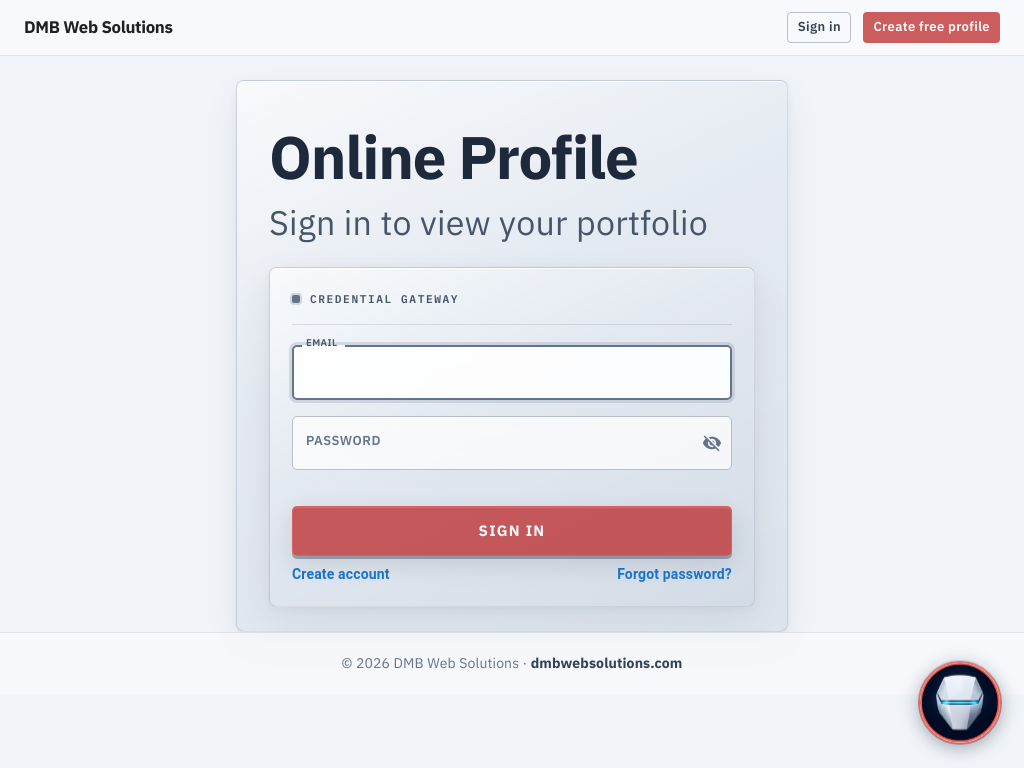
Auth routes › shows API offline message on login request failure
The image size is (1024, 768).
Type "demo@demo.com" into the field with id "login-username" at (512, 373), box [292,345,732,400]
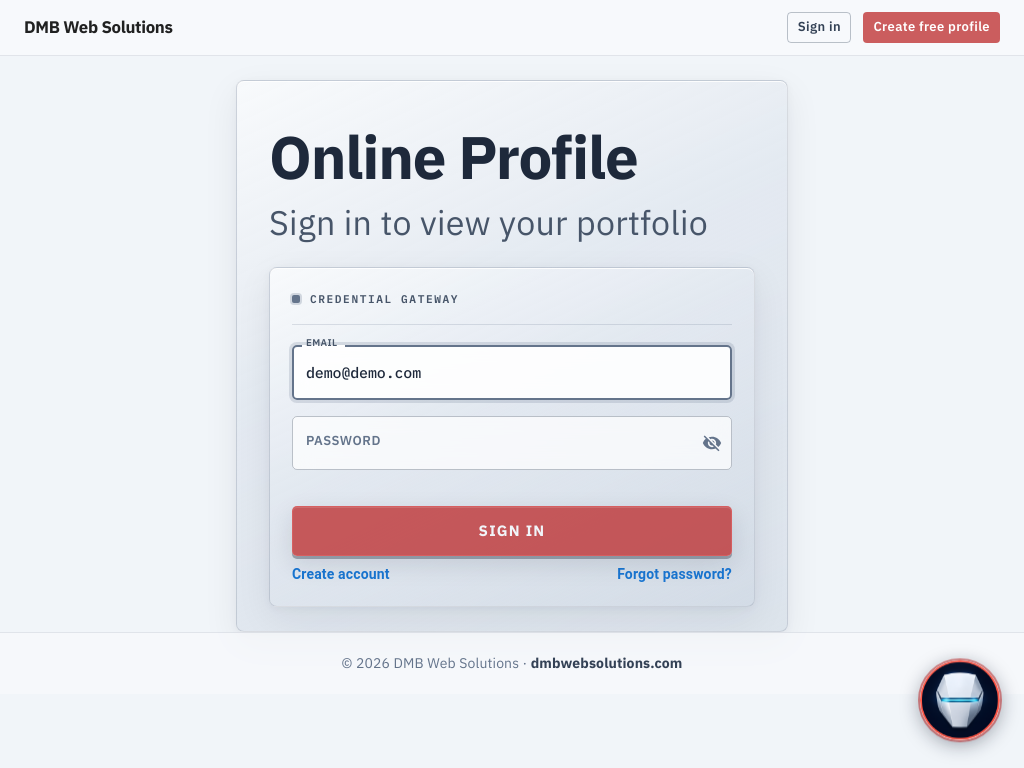
Type "password79" into the password field with id "login-password" at (489, 444), box [292,416,686,471]
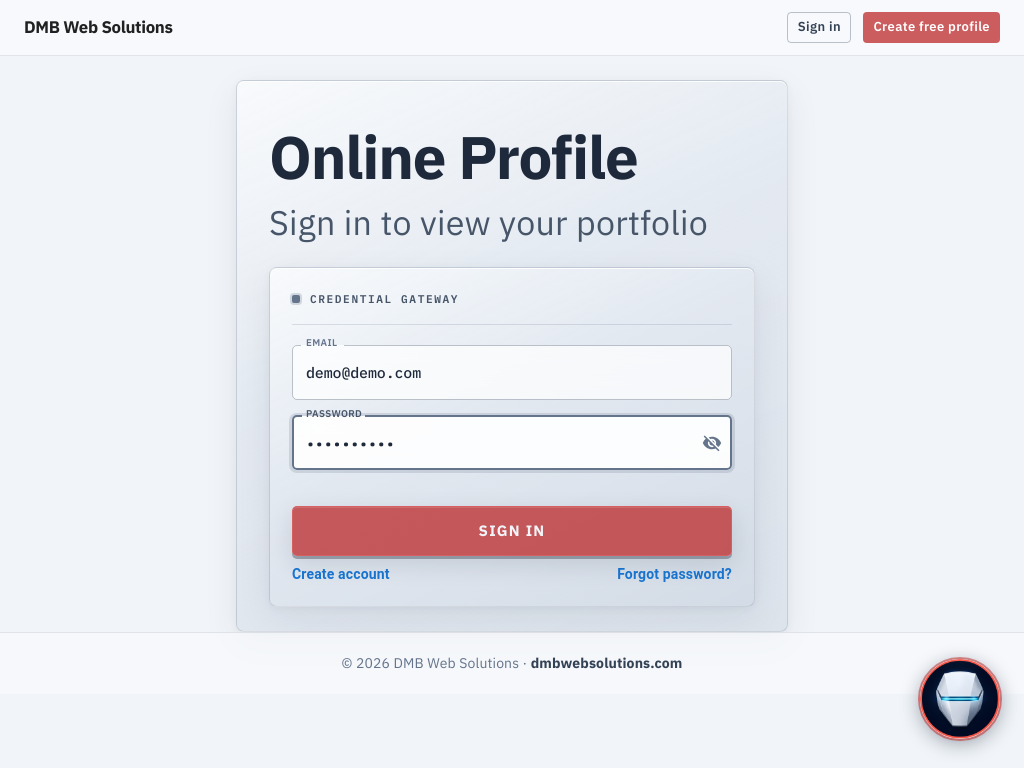
Click the button "Sign in" at (512, 532), box [292,507,732,557]
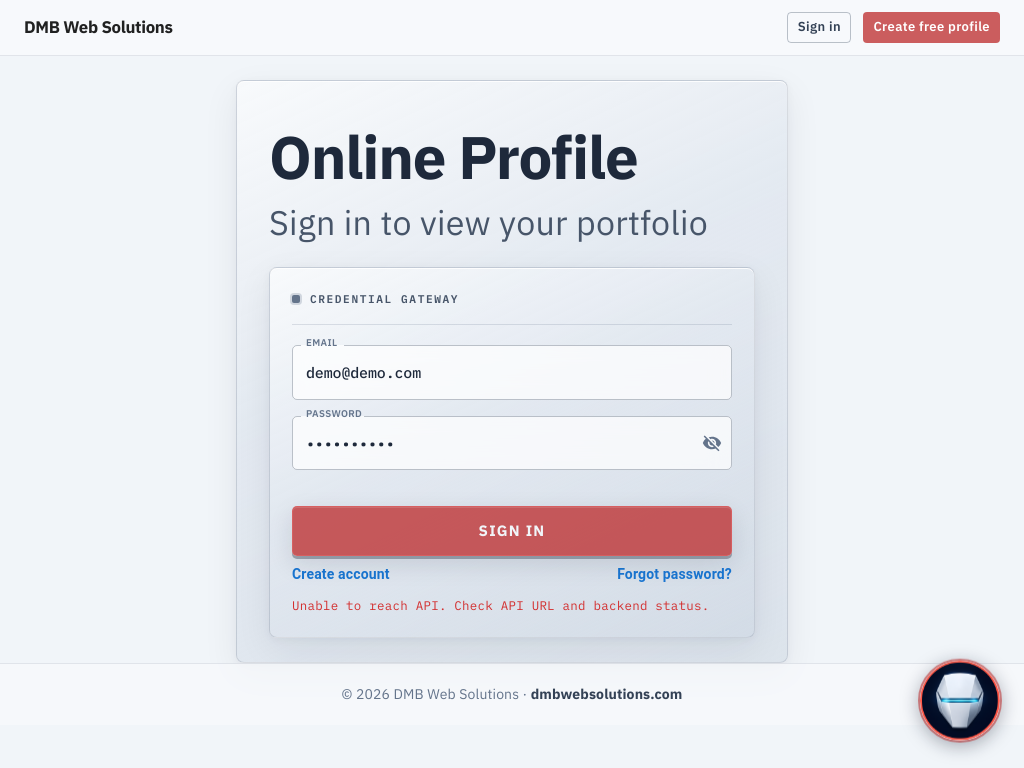
Expected: the text "Unable to reach API. Check API URL and backend status." is shown, [292,596,732,615]
